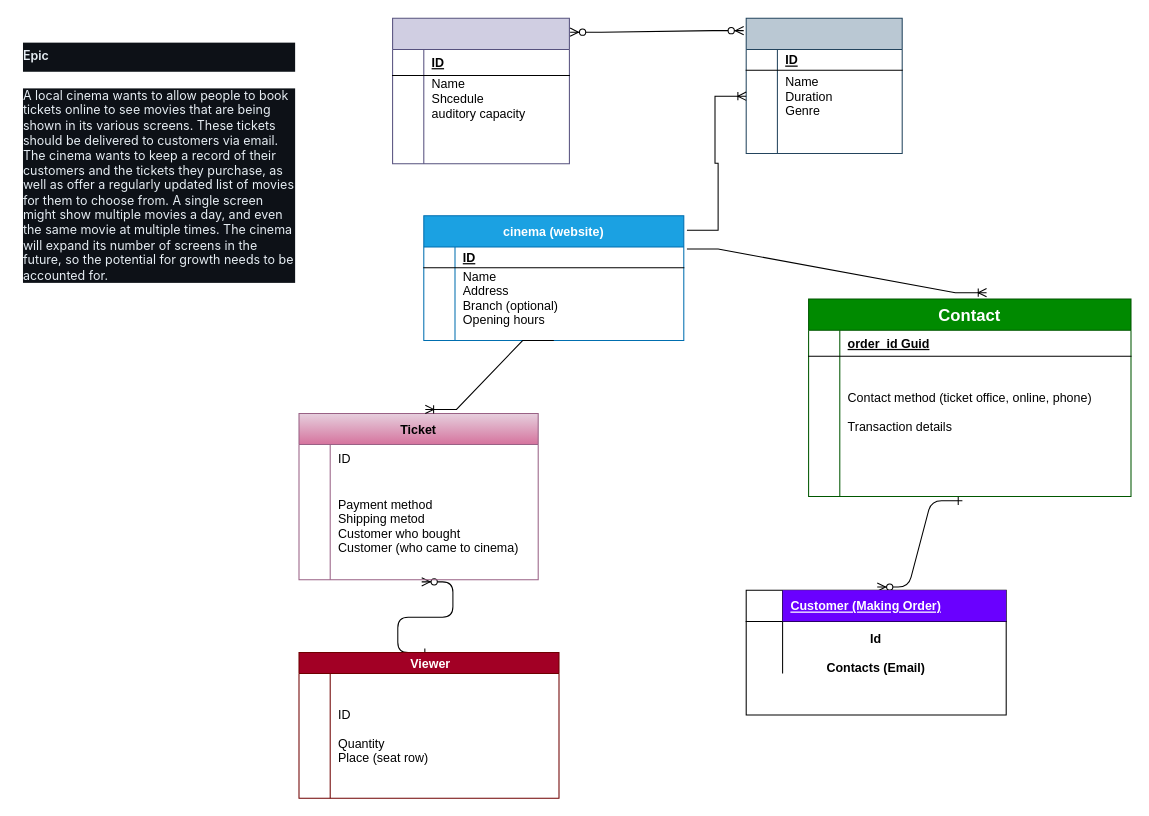
This 1149x816 diagram has some shape labels left out. The shapes that lost their labels are listed below. From the top down, each one's box as (x1, y1, x2, y2) in pixels, then its label:
(392, 17, 569, 164): Screen
(745, 17, 902, 153): Movies (List)
